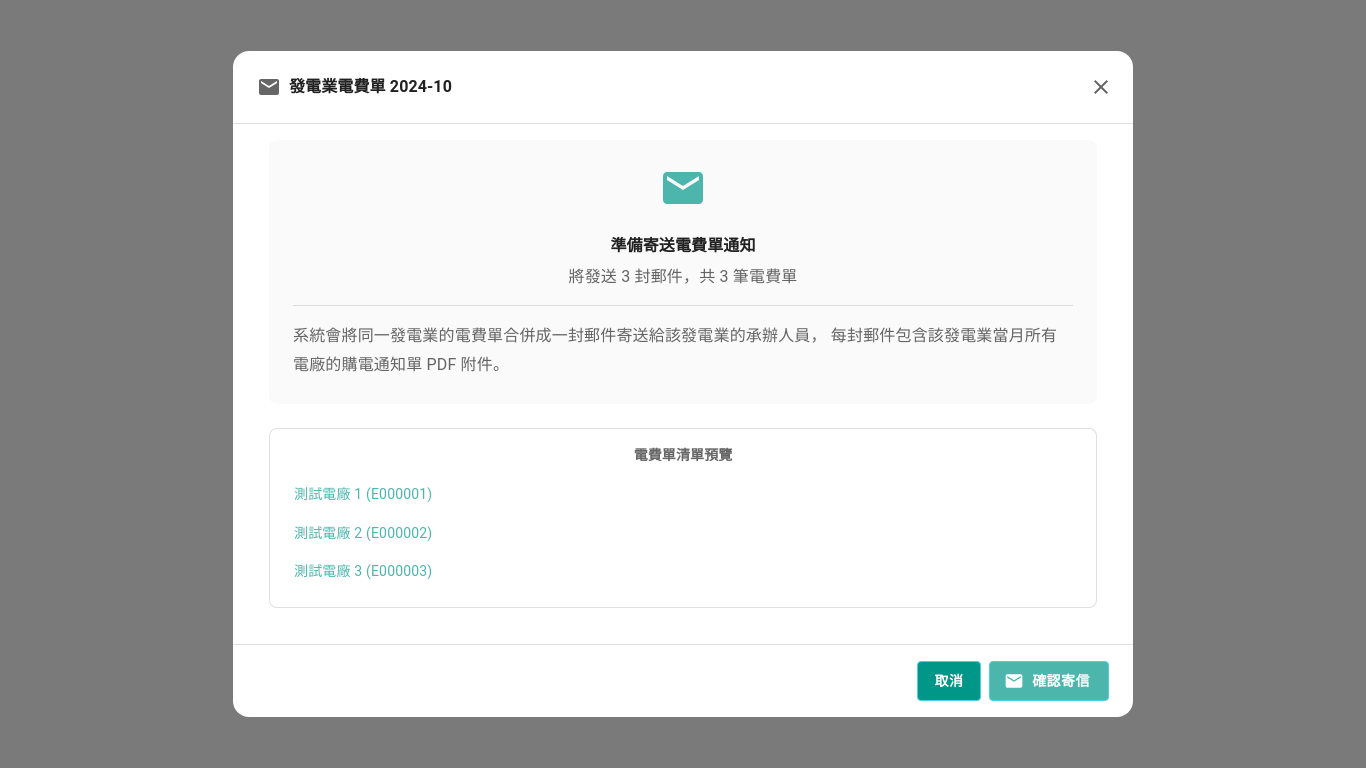
Test: IndustryBillEmailModal (Integration) › Error Handling › should handle GraphQL network errors
Check: the heading "準備寄送電費單通知" is shown, box [610, 236, 756, 255]
Click the button "確認寄信".
click(1049, 681)  # box [989, 661, 1109, 701]
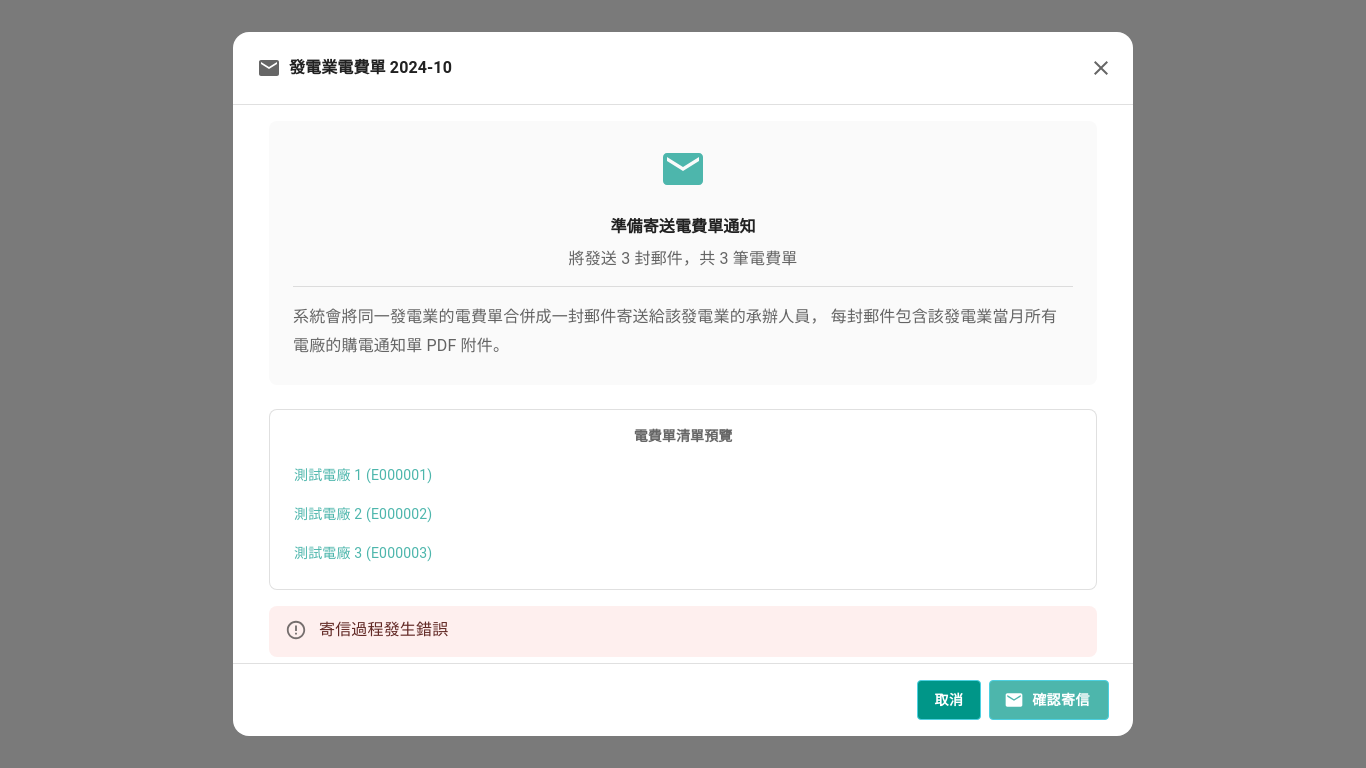
Check: the text "寄信過程發生錯誤" is shown, box [319, 622, 448, 640]
